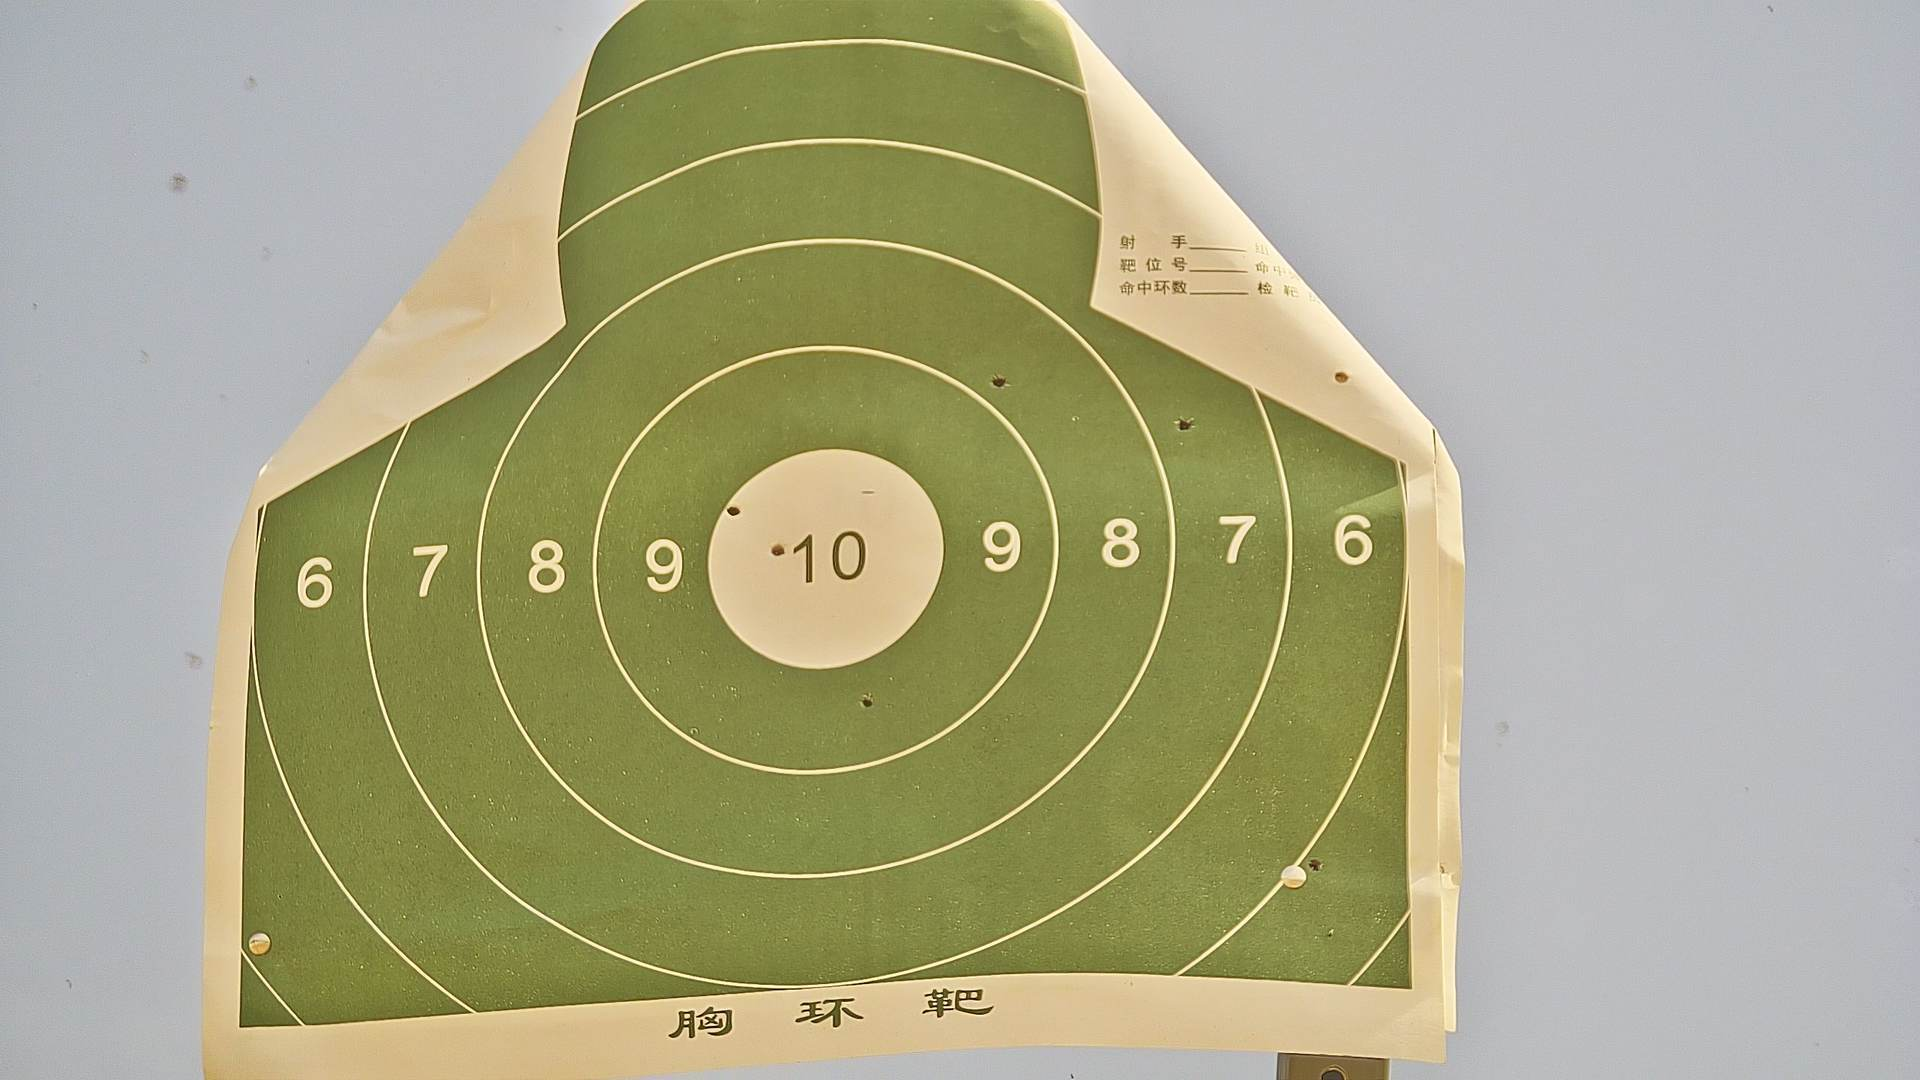hole: (1176, 417, 1195, 433), (992, 375, 1007, 389), (769, 542, 785, 555), (1309, 857, 1323, 872), (858, 694, 873, 705), (727, 505, 738, 516)
kernel: (822, 556, 827, 563)
target: (236, 11, 1414, 1029)
ten: (702, 448, 948, 673)
